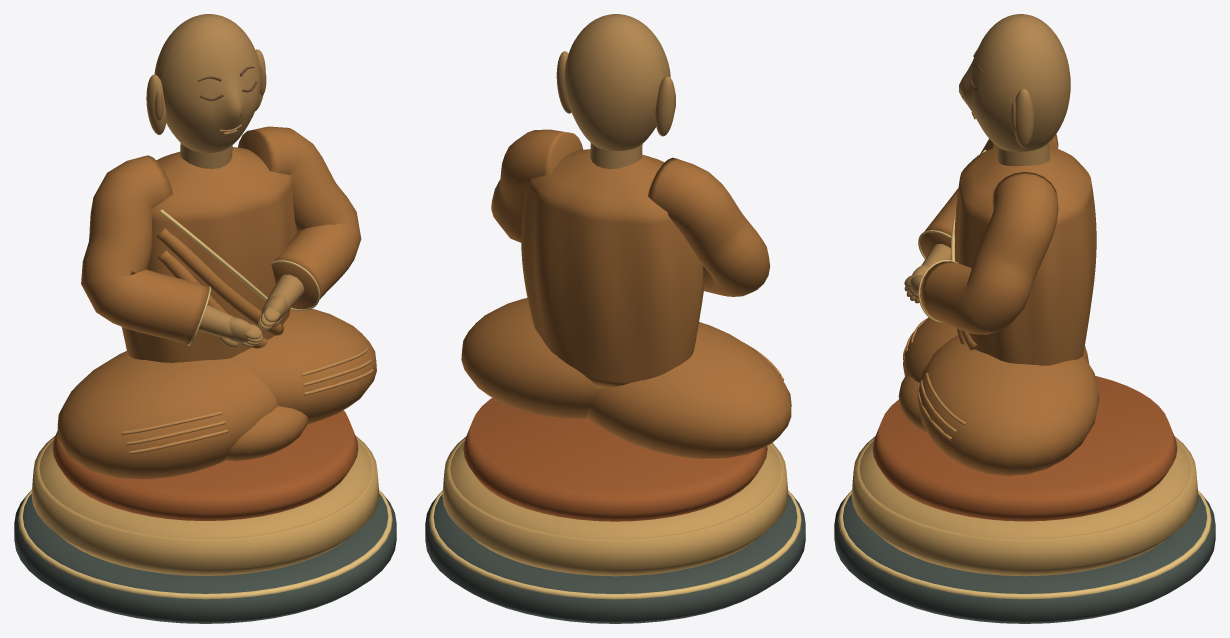
File: arhat_14.glb
3 views of the same model, side by side, from view 1: azimuth 30°, elevation 25°; view 2: azimuth 150°, elevation 25°; view 3: azimuth 270°, elevation 25° (orthographic).
Visible parts, largest first — view 1: arhat_14_ArhatDrapery, arhat_14_AntiqueGold, arhat_14_CarvedPlinth, arhat_14_WarmBronze, arhat_14_SaffronDrapery, arhat_14_RaisedGoldBorders, arhat_14_DraperyFoldHighlights; view 2: arhat_14_ArhatDrapery, arhat_14_SaffronDrapery, arhat_14_AntiqueGold, arhat_14_CarvedPlinth, arhat_14_WarmBronze, arhat_14_RaisedGoldBorders; view 3: arhat_14_ArhatDrapery, arhat_14_SaffronDrapery, arhat_14_AntiqueGold, arhat_14_CarvedPlinth, arhat_14_WarmBronze, arhat_14_RaisedGoldBorders, arhat_14_DraperyFoldHighlights.
Boxes of the visible parts, x1,y1,x2,y2 form: arhat_14_ArhatDrapery: (57,126,376,479); arhat_14_AntiqueGold: (31,435,379,575); arhat_14_CarvedPlinth: (14,492,396,623); arhat_14_WarmBronze: (146,14,304,347); arhat_14_SaffronDrapery: (52,410,358,520); arhat_14_RaisedGoldBorders: (18,209,392,599); arhat_14_DraperyFoldHighlights: (121,347,373,454); arhat_14_ArhatDrapery: (461,129,791,458); arhat_14_SaffronDrapery: (463,398,767,521); arhat_14_AntiqueGold: (442,437,788,576); arhat_14_CarvedPlinth: (425,493,805,623); arhat_14_WarmBronze: (556,14,675,169); arhat_14_RaisedGoldBorders: (429,490,801,599); arhat_14_ArhatDrapery: (898,134,1099,475); arhat_14_SaffronDrapery: (872,376,1177,521); arhat_14_AntiqueGold: (851,436,1198,576); arhat_14_CarvedPlinth: (834,493,1215,623); arhat_14_WarmBronze: (904,14,1070,303); arhat_14_RaisedGoldBorders: (838,150,1211,599); arhat_14_DraperyFoldHighlights: (903,317,965,440).
Size of the model in its own units: 0.92 by 1.41 by 0.92.
